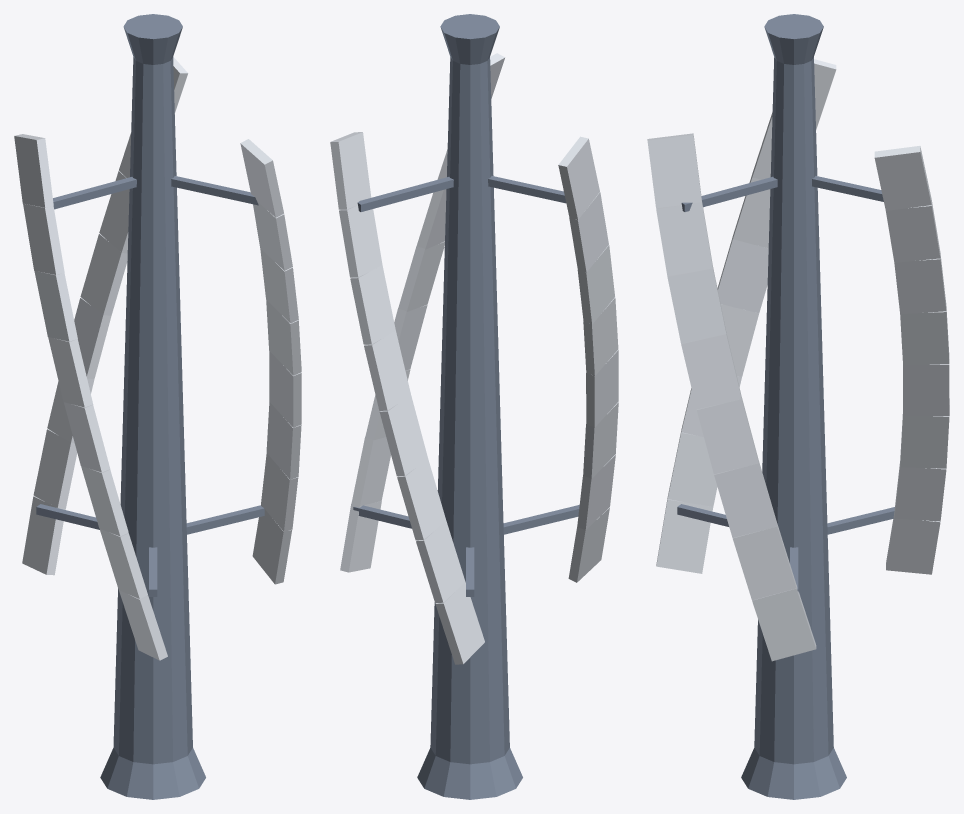
File: wind_rotor.glb
3 renders of one model, left to right at view 1: azimuth 30°, elevation 25°; view 2: azimuth 150°, elevation 25°; view 3: azimuth 270°, elevation 25°, orthographic.
Visible parts, largest first — view 1: LOD0; view 2: LOD0; view 3: LOD0.
Boxes of the visible parts, <box> form: LOD0: <box>14,14,301,799</box>; LOD0: <box>330,14,618,799</box>; LOD0: <box>647,14,949,799</box>.
Size of what is drawn, in the model's own units: 8.31 by 25 by 9.11.
